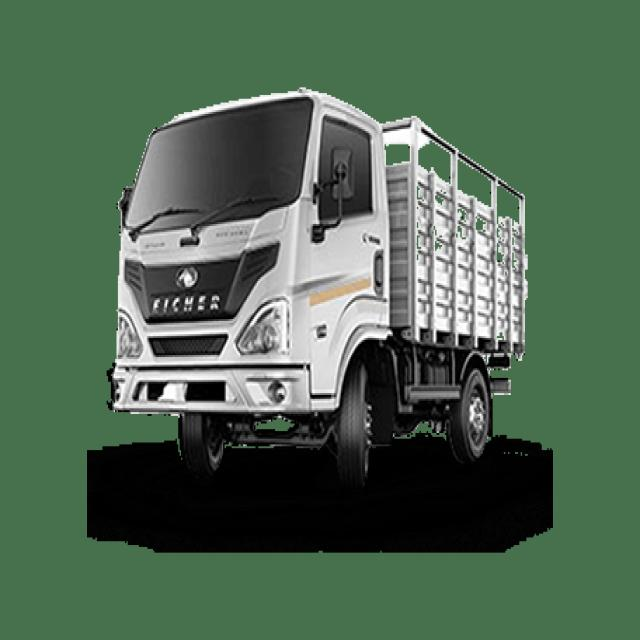truck: (110, 88, 525, 489)
